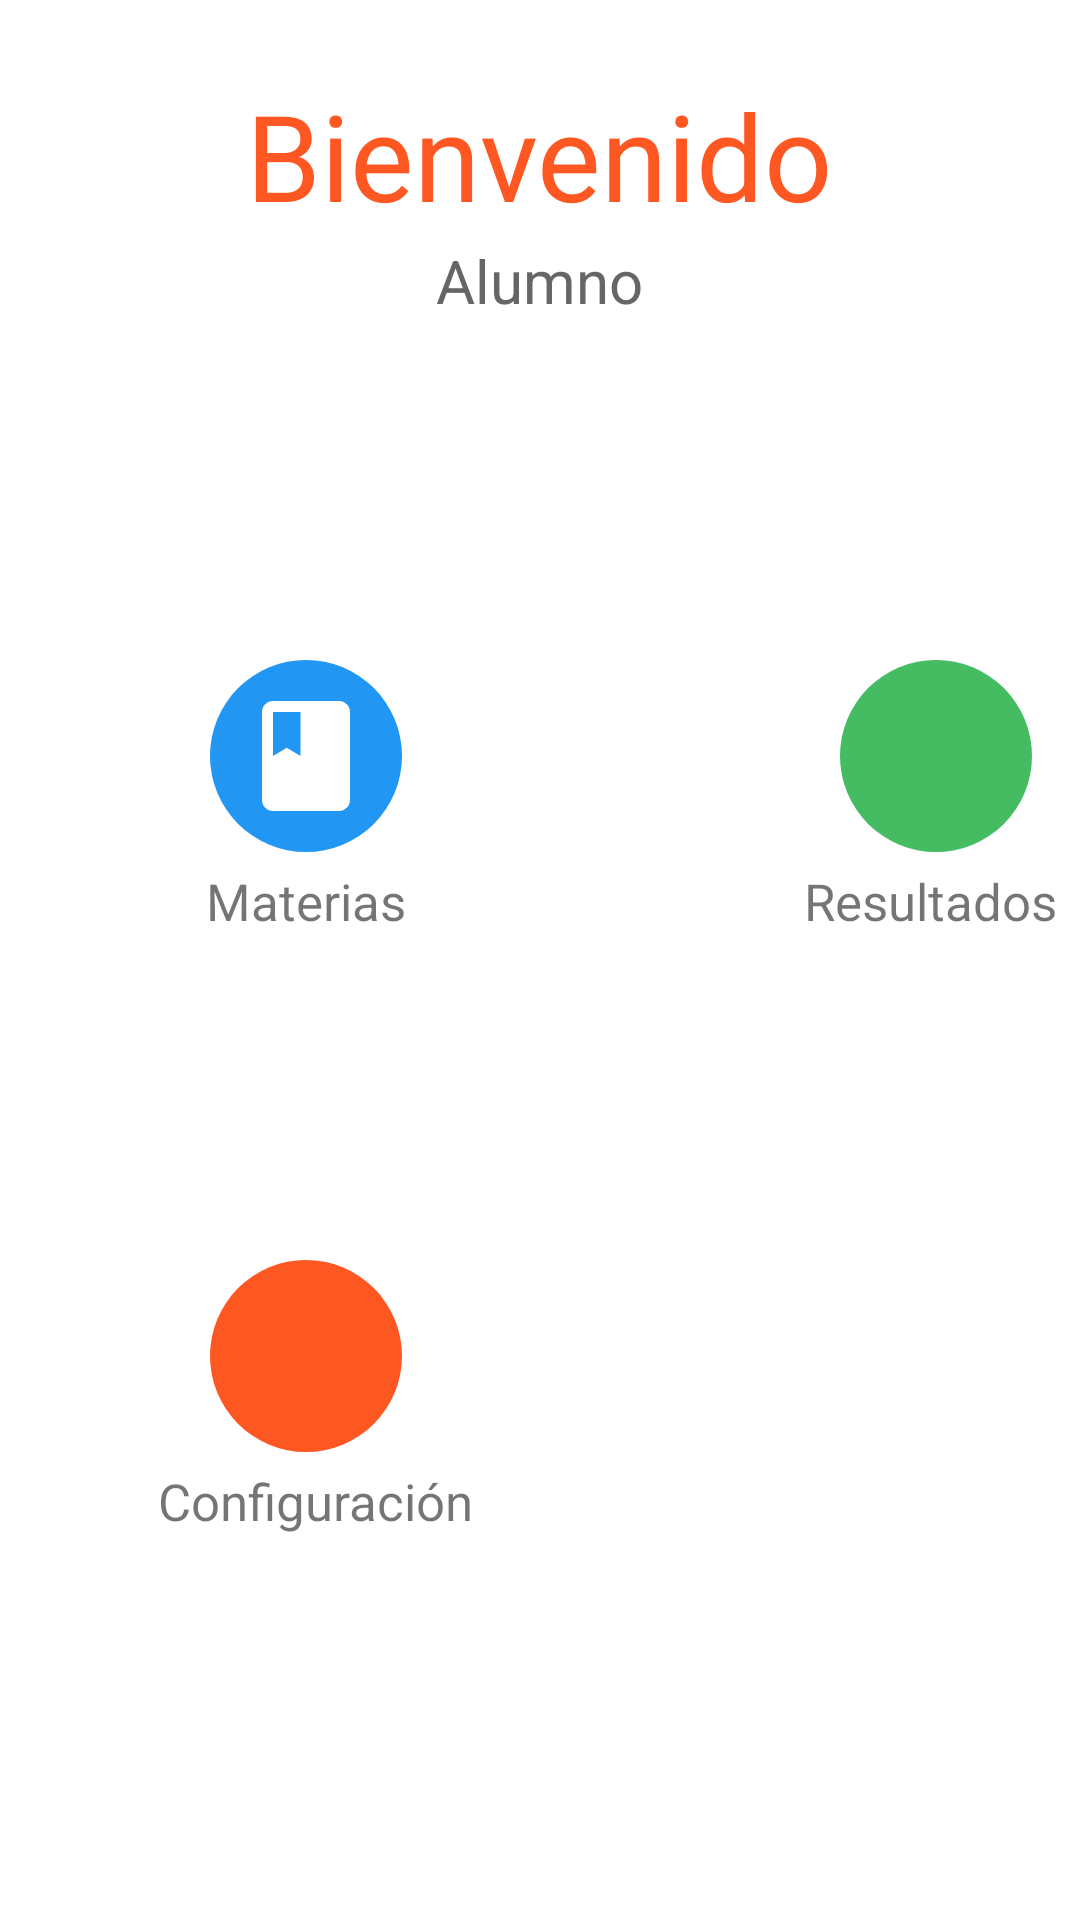

Screen size 1080 x 1920. Icon name, then its box in pixels as Rect(x1, y1, x2, y2):
book: Rect(210, 660, 402, 852)
